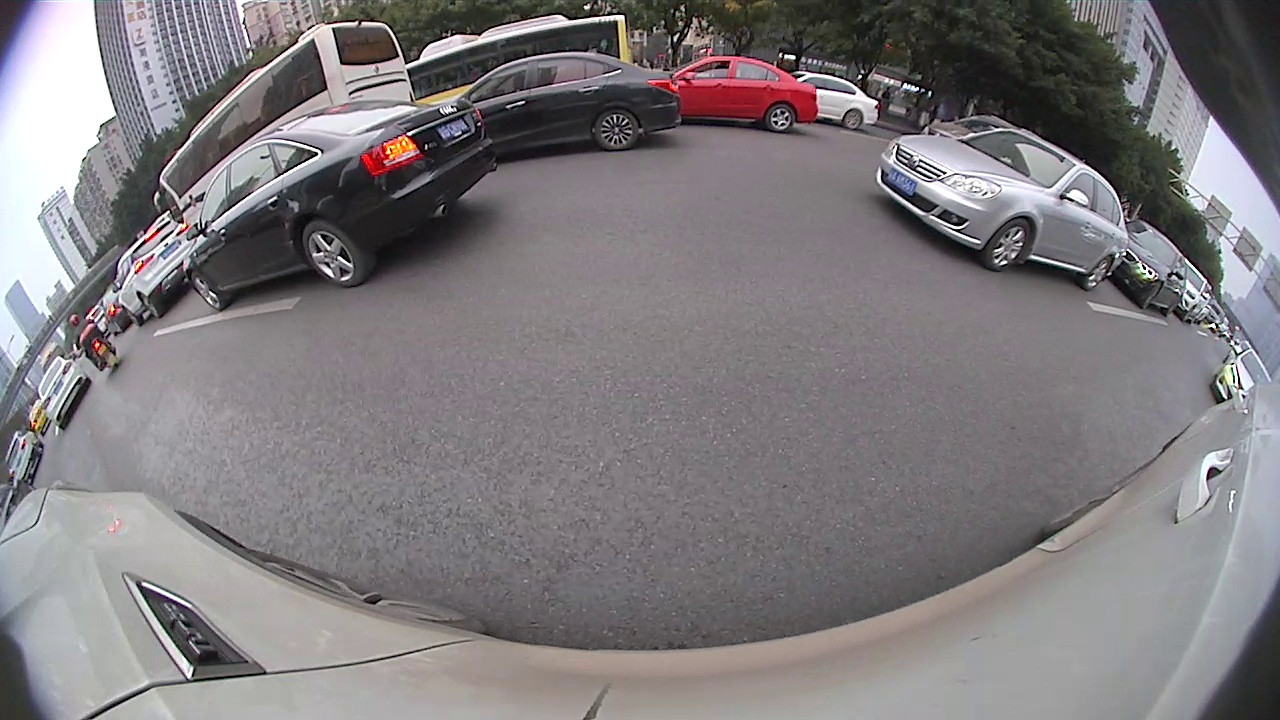bus: (152, 20, 413, 211), (405, 12, 631, 104)
car: (182, 95, 502, 313), (876, 121, 1130, 294), (444, 51, 685, 152), (649, 51, 818, 141), (108, 214, 201, 326), (1110, 219, 1183, 320), (785, 71, 880, 139), (35, 358, 91, 427), (1212, 342, 1270, 407), (923, 111, 1040, 141), (1172, 260, 1213, 323), (1, 434, 46, 482)
front: (987, 217, 1032, 271), (190, 272, 224, 308), (1140, 284, 1163, 307), (121, 306, 142, 324)
rear: (300, 220, 374, 288), (597, 110, 639, 149), (1078, 256, 1113, 289), (764, 105, 795, 131), (139, 293, 161, 317), (843, 111, 863, 128), (1162, 301, 1180, 315)
rider: (66, 312, 120, 369)
